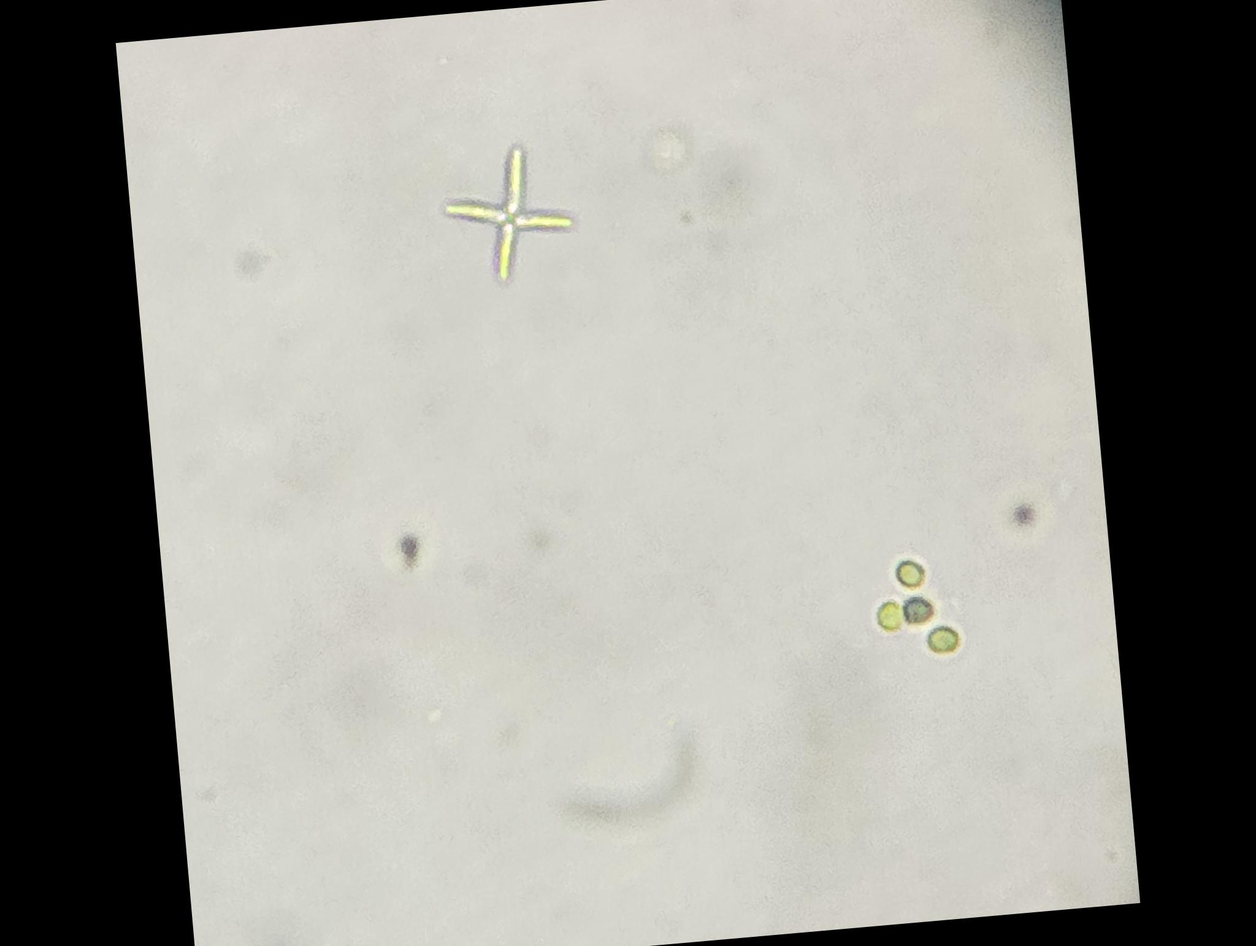Scenedesmus: (426, 129, 588, 294)
